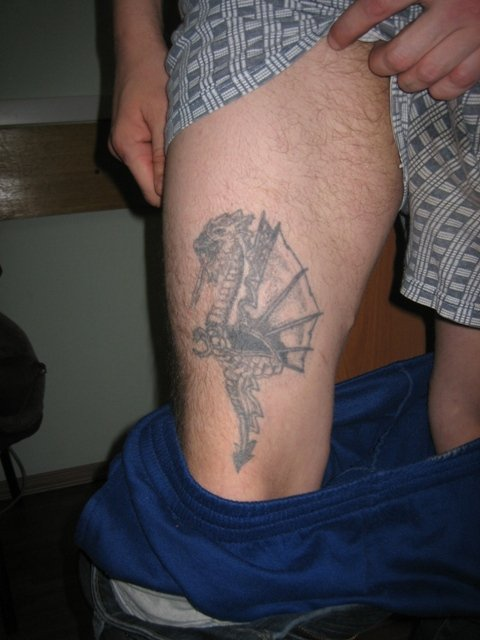tatu6_drakon: (177, 211, 339, 476)
